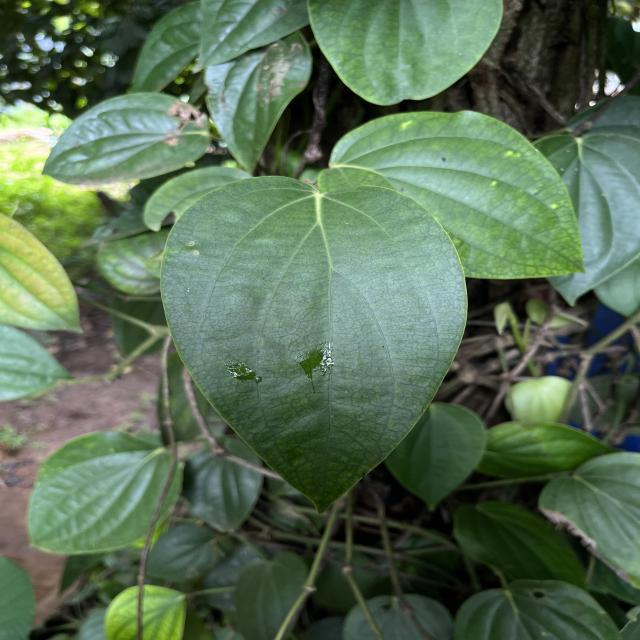Piper nigrum: (157, 173, 470, 516)
